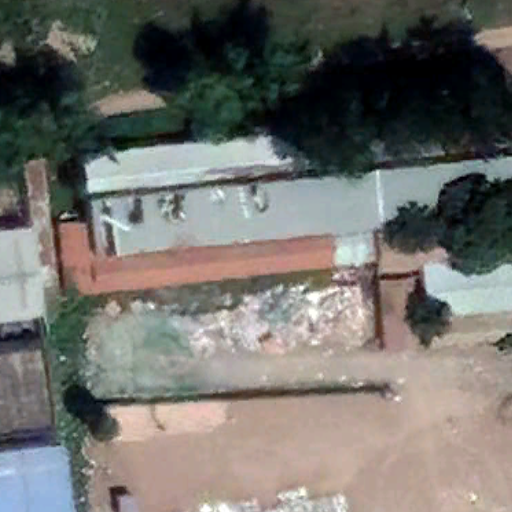msw: (218, 266, 380, 349)
